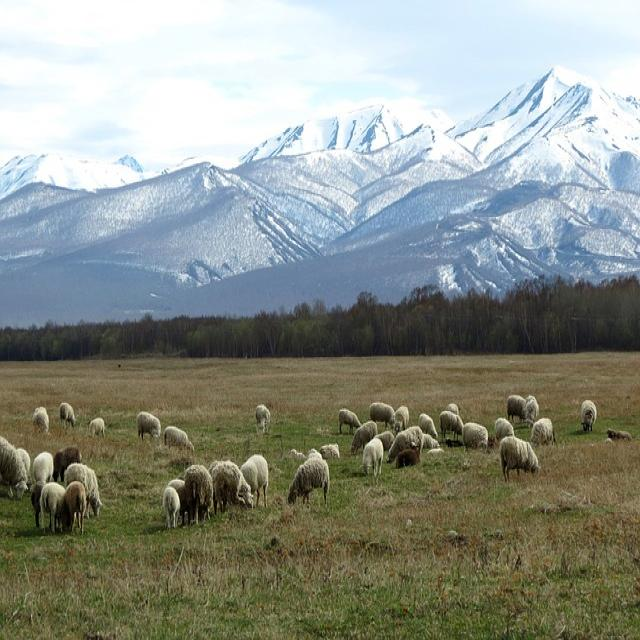goat: (161, 468, 251, 530), (285, 445, 335, 507), (496, 422, 541, 482), (236, 453, 272, 505), (134, 411, 169, 446), (28, 406, 65, 434), (575, 397, 599, 437), (52, 402, 81, 430), (251, 403, 274, 437)
